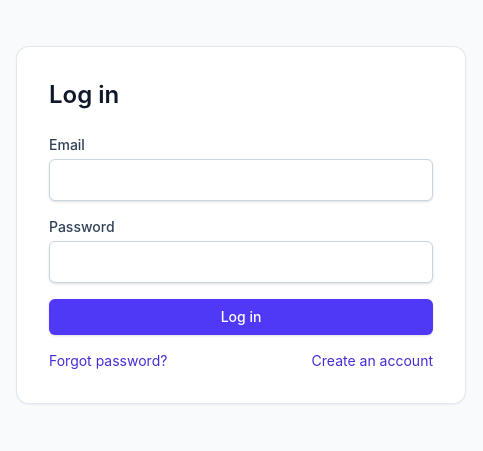
LoginView › shows the server message for wrong credentials
The image size is (483, 451).
Type "user@example.com" into the field labelled "Email" at (241, 180), box [49,159,433,201]
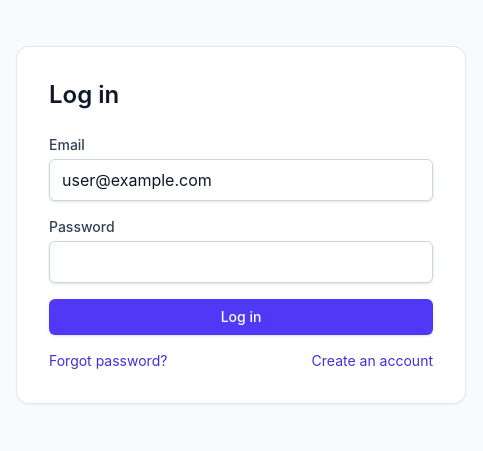
Type "wrong" into the password field labelled "Password" at (241, 262), box [49,241,433,283]
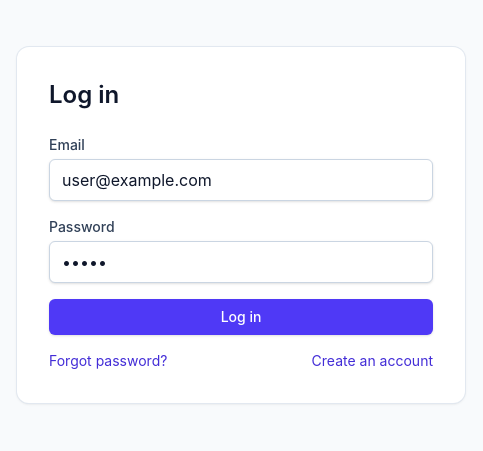
Submit the form, box [49,135,433,371]
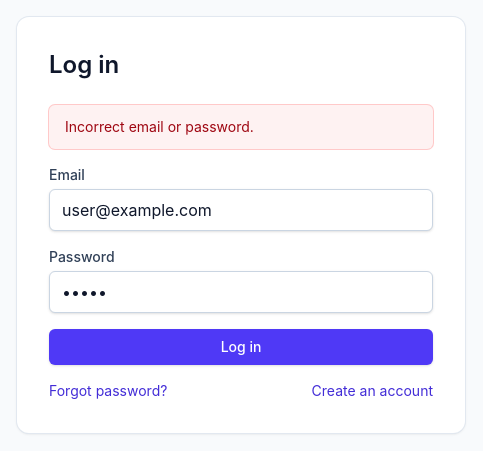
Expected: the message "Incorrect email or password." is shown, [49,105,433,149]
